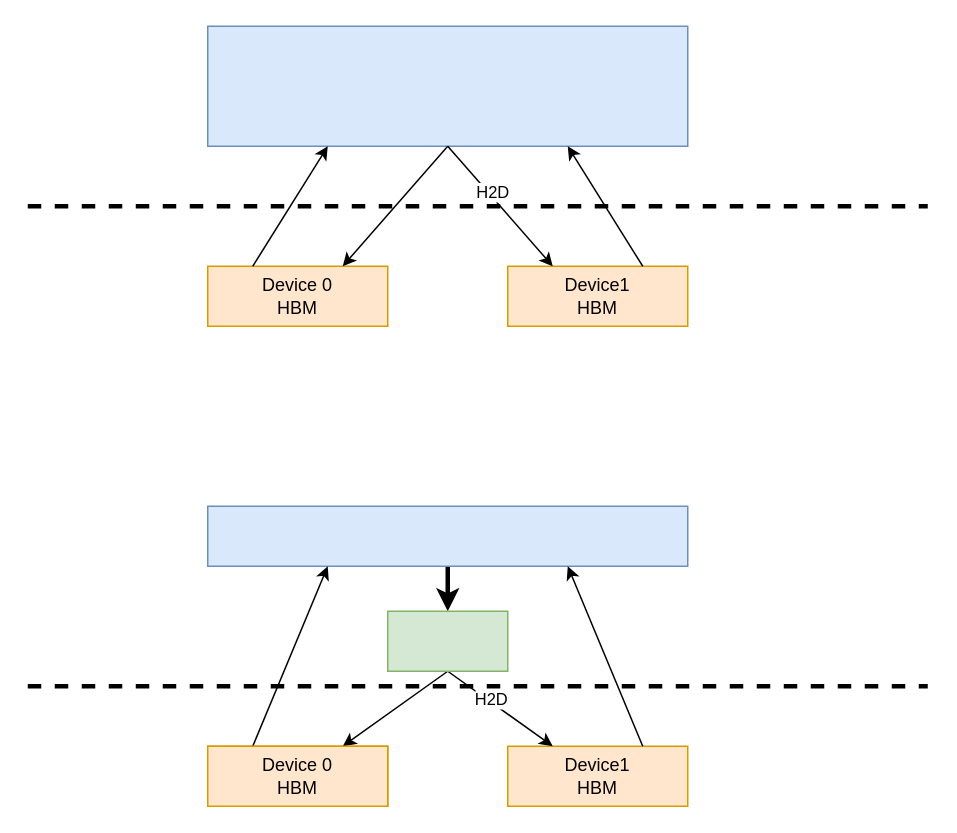
Image size: 957x833. Some labels were removed from this diagram. The centre of each missing label's shape, as x and y in pixels:
"Host Share Memory" belongs at pixel 447 535.
"Host Share Memory (Pin Memory)" belongs at pixel 447 85.
"Pin Memory" belongs at pixel 447 640.
